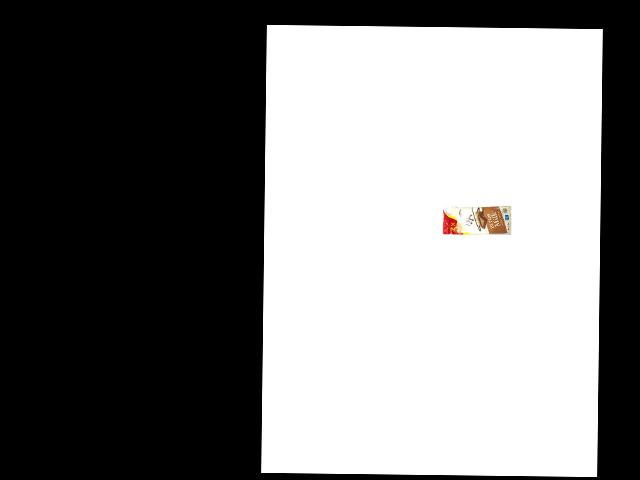chocolate: (441, 204, 509, 237)
